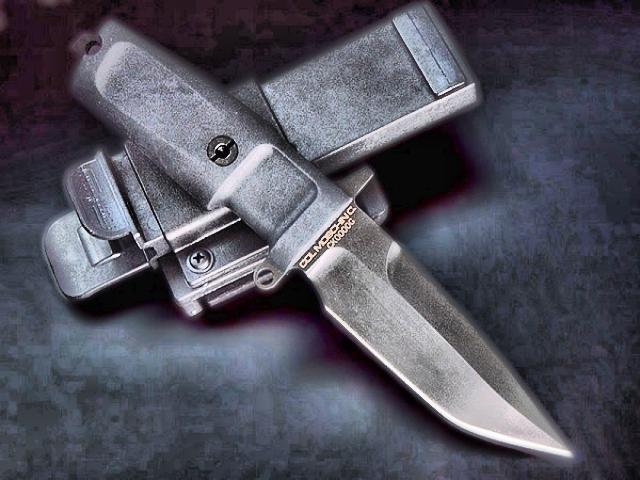knife: (247, 158, 583, 470)
